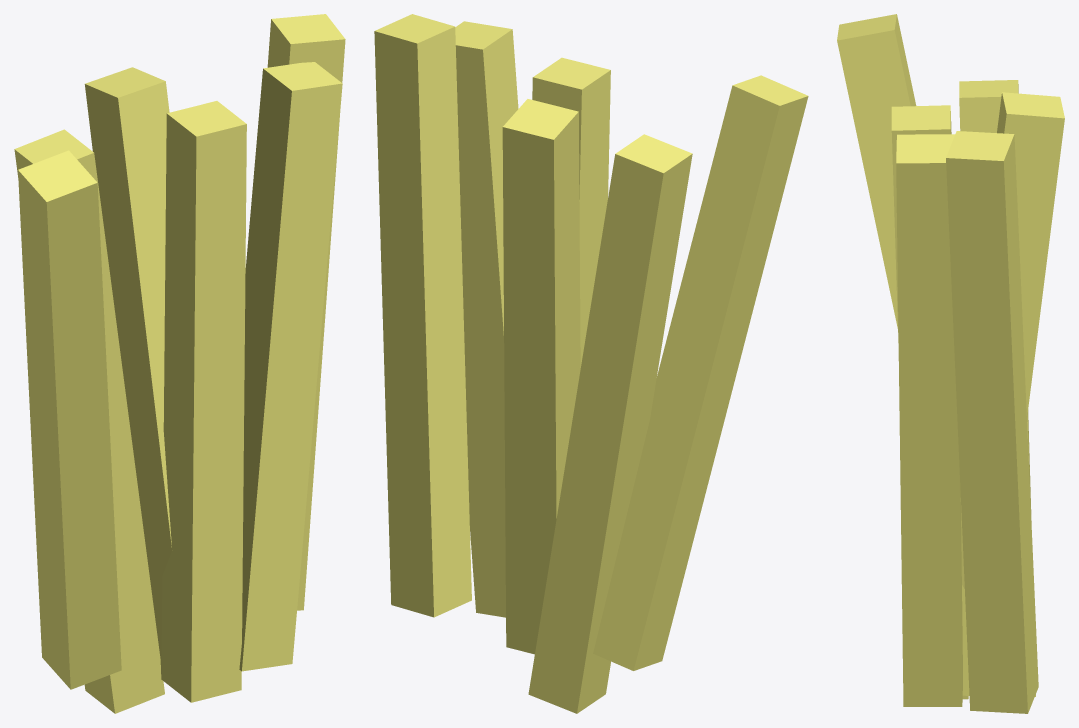
Rendered from H_Fries.fbx.
The picture shows the model from 3 angles, left to right: view 1: azimuth 30°, elevation 25°; view 2: azimuth 150°, elevation 25°; view 3: azimuth 270°, elevation 25°; orthographic projection. The views are drawn at different scales.
Visible parts, largest first — view 1: Fries; view 2: Fries; view 3: Fries.
Part boxes in pixels (x1,y1,x2,y2): Fries: (14,14,345,713); Fries: (374,14,808,713); Fries: (837,14,1064,713).
Bounding box in the file's own units: 13.61 × 22.92 × 7.49.
